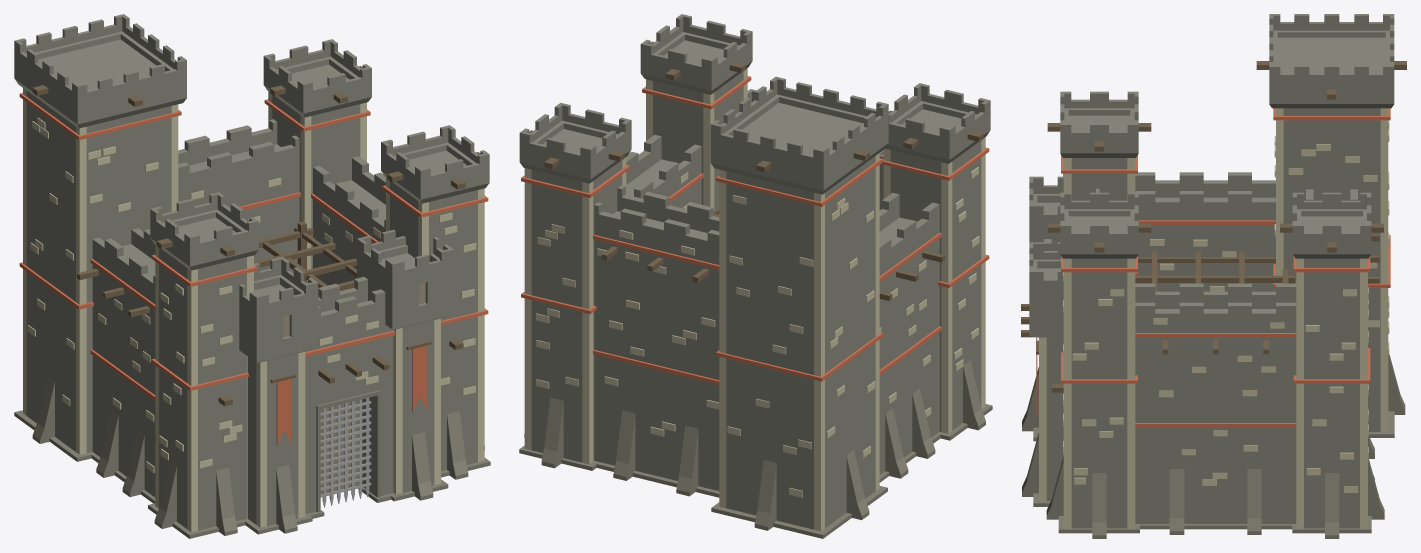
Rendered from Castle_2.fbx.
3 renders of one model, left to right at view 1: azimuth 30°, elevation 25°; view 2: azimuth 150°, elevation 25°; view 3: azimuth 270°, elevation 25°, orthographic. The views are drawn at different scales.
Parts seen in each view (by area): view 1: Castle_2; view 2: Castle_2; view 3: Castle_2.
Part boxes in pixels (x1=…): Castle_2: x1=14, y1=14, x2=490, y2=538; Castle_2: x1=519, y1=14, x2=992, y2=538; Castle_2: x1=1021, y1=14, x2=1406, y2=538.
Bounding box in the file's own units: 485 × 529 × 498.
1 material, 1 textured.
